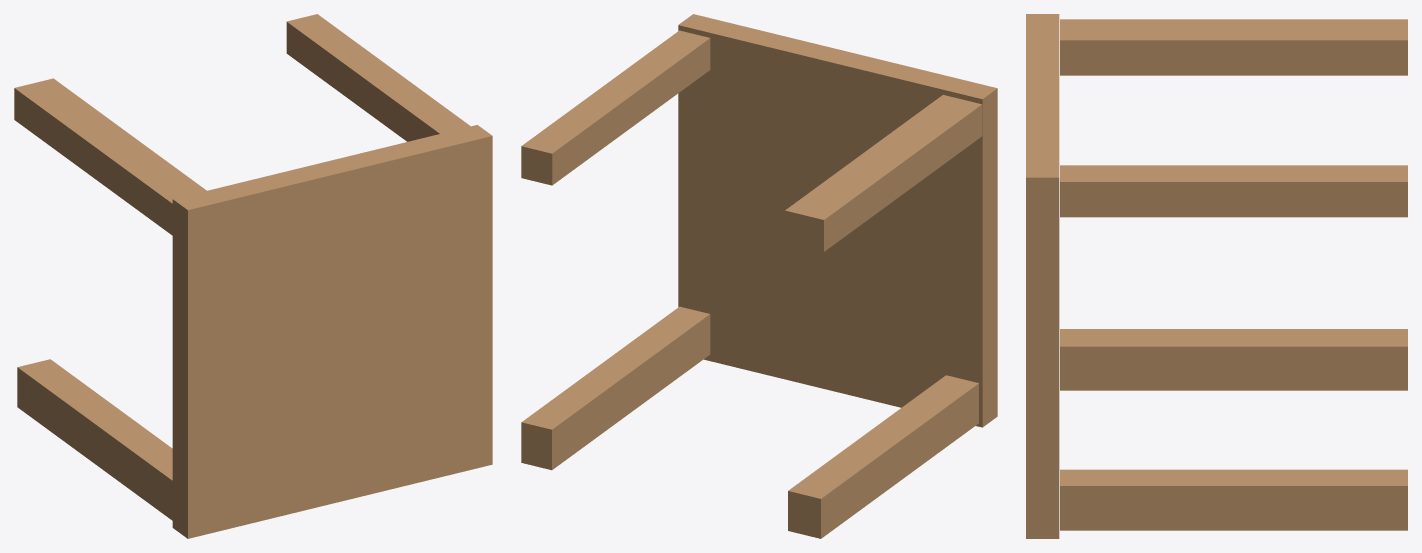
3 renders of one model, left to right at view 1: azimuth 30°, elevation 25°; view 2: azimuth 150°, elevation 25°; view 3: azimuth 270°, elevation 25°, orthographic. The views are drawn at different scales.
Visible parts, largest first — view 1: visual.obj; view 2: visual.obj; view 3: visual.obj.
Boxes of the visible parts, <box> form: visual.obj: <box>14,14,492,538</box>; visual.obj: <box>521,14,997,538</box>; visual.obj: <box>1026,14,1407,538</box>.
Size of the model in its own units: 0.357 by 0.368 by 0.3524.
